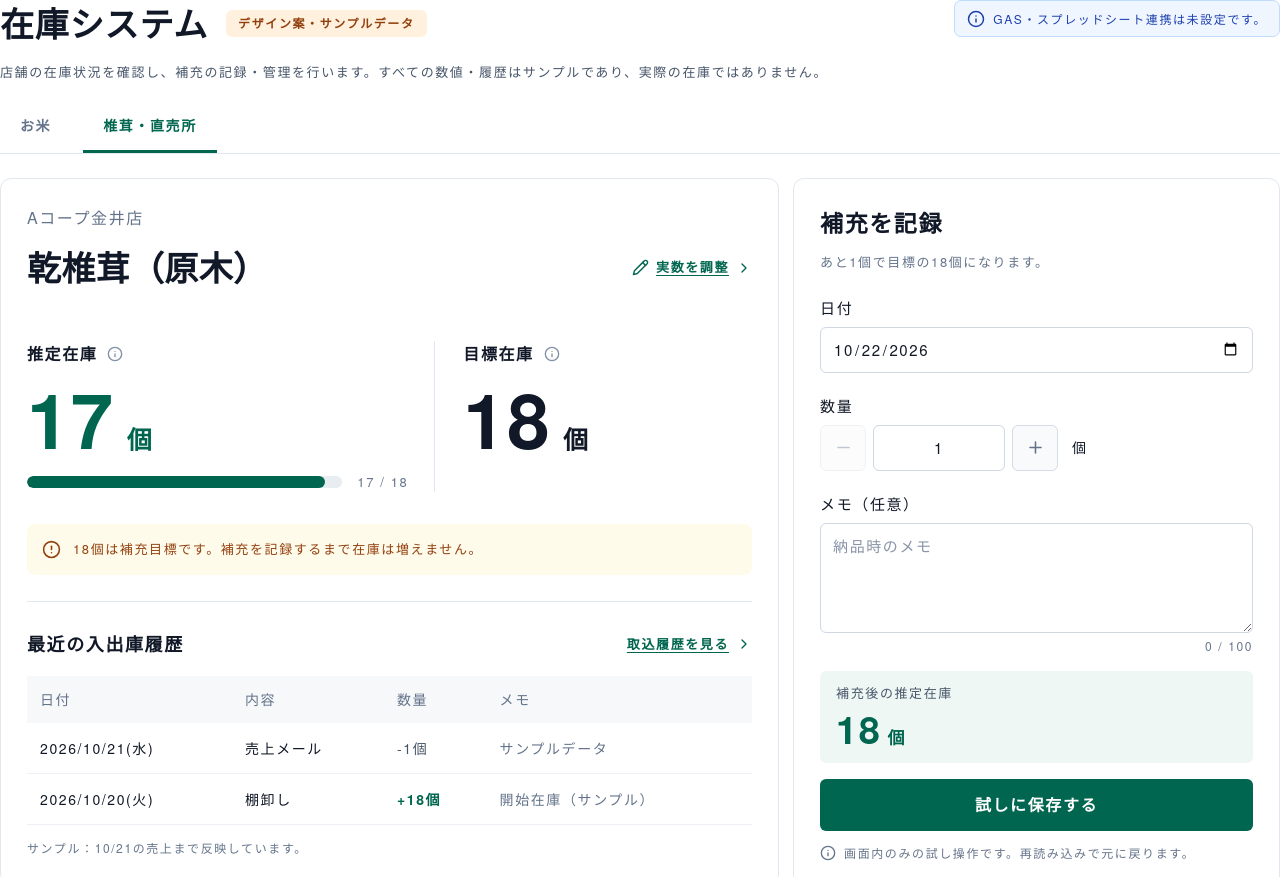
Test case: requires a reason for a count correction, including zero stock
The image size is (1280, 877).
Click the button "実数を調整" at x=692, y=268, box [632,248,752,288]
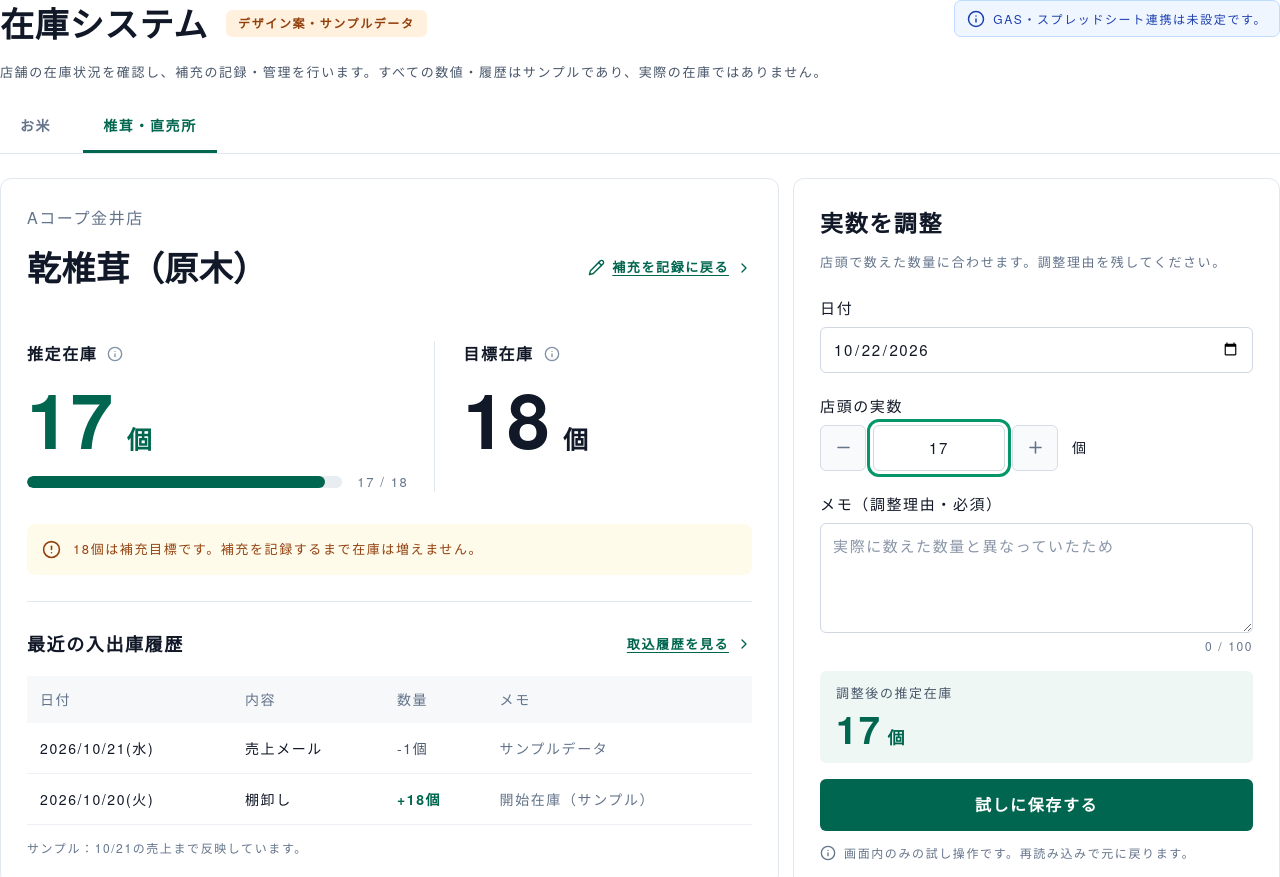
Replace the text in the number field labelled "店頭の実数" with "0" at x=939, y=448, box [873,425,1005,471]
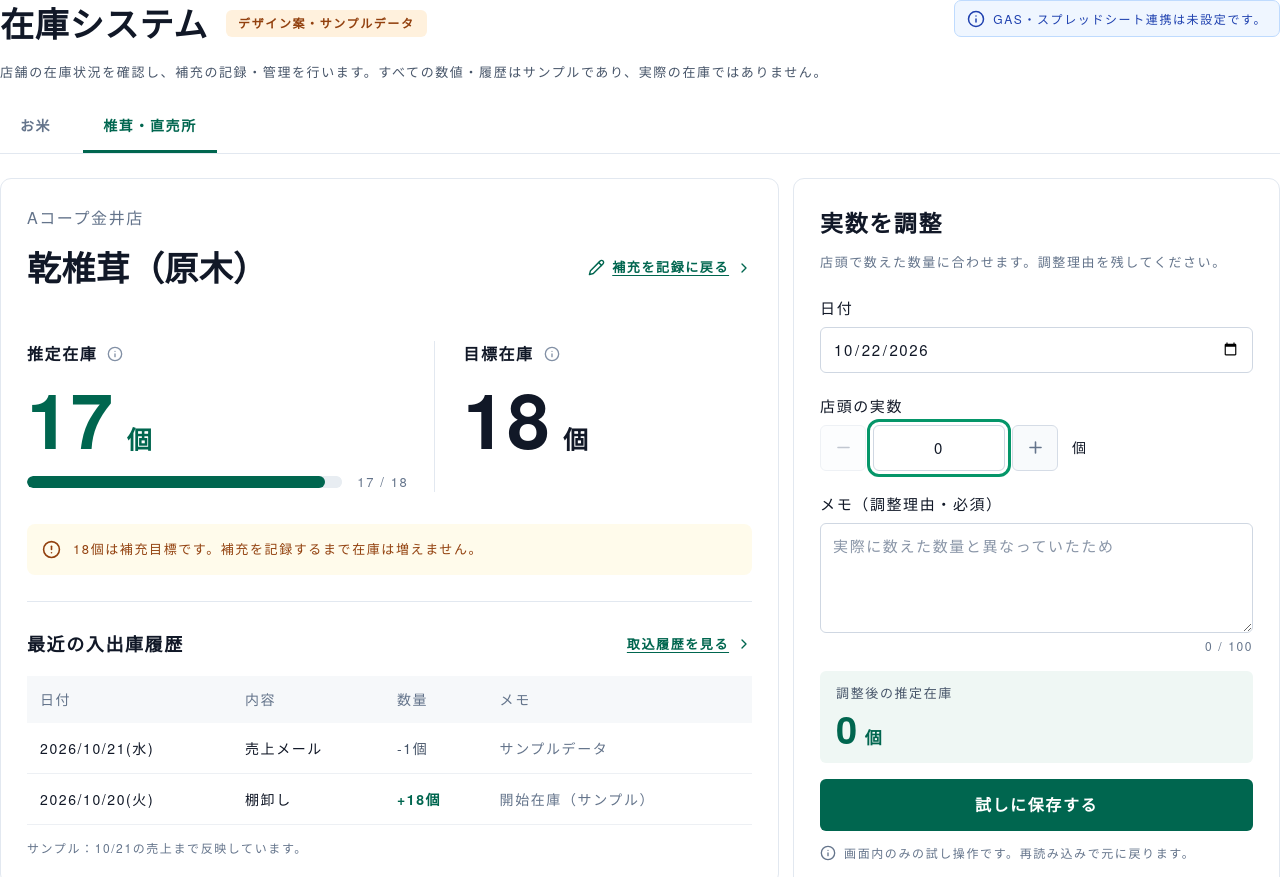
Click the button "試しに保存する" at x=1037, y=805, box [820,779,1253,831]
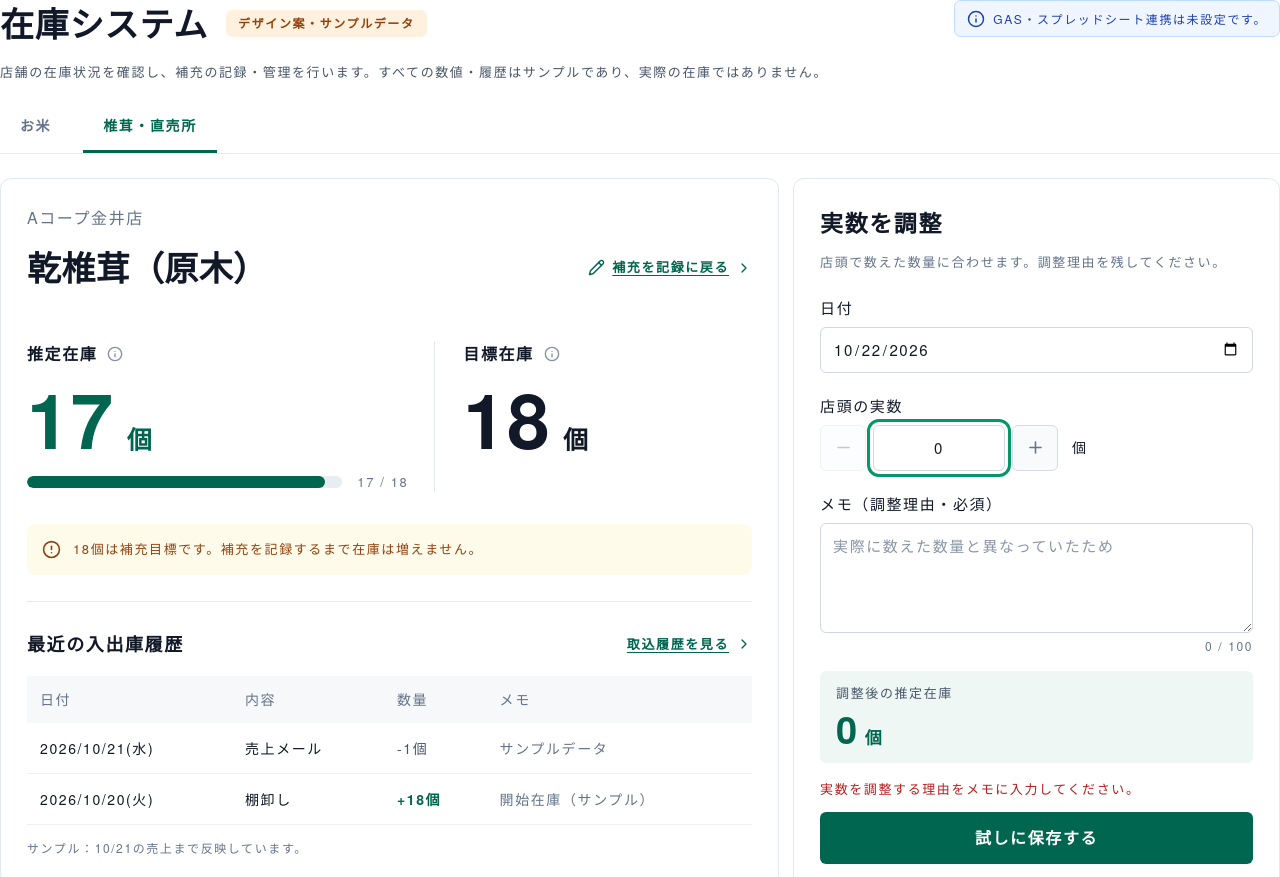
Now the message shows "調整する理由", box [820,779,1140,798]
Type "全量回収" into the text box labelled "メモ（調整理由・必須）" at x=1037, y=578, box [820,523,1253,633]
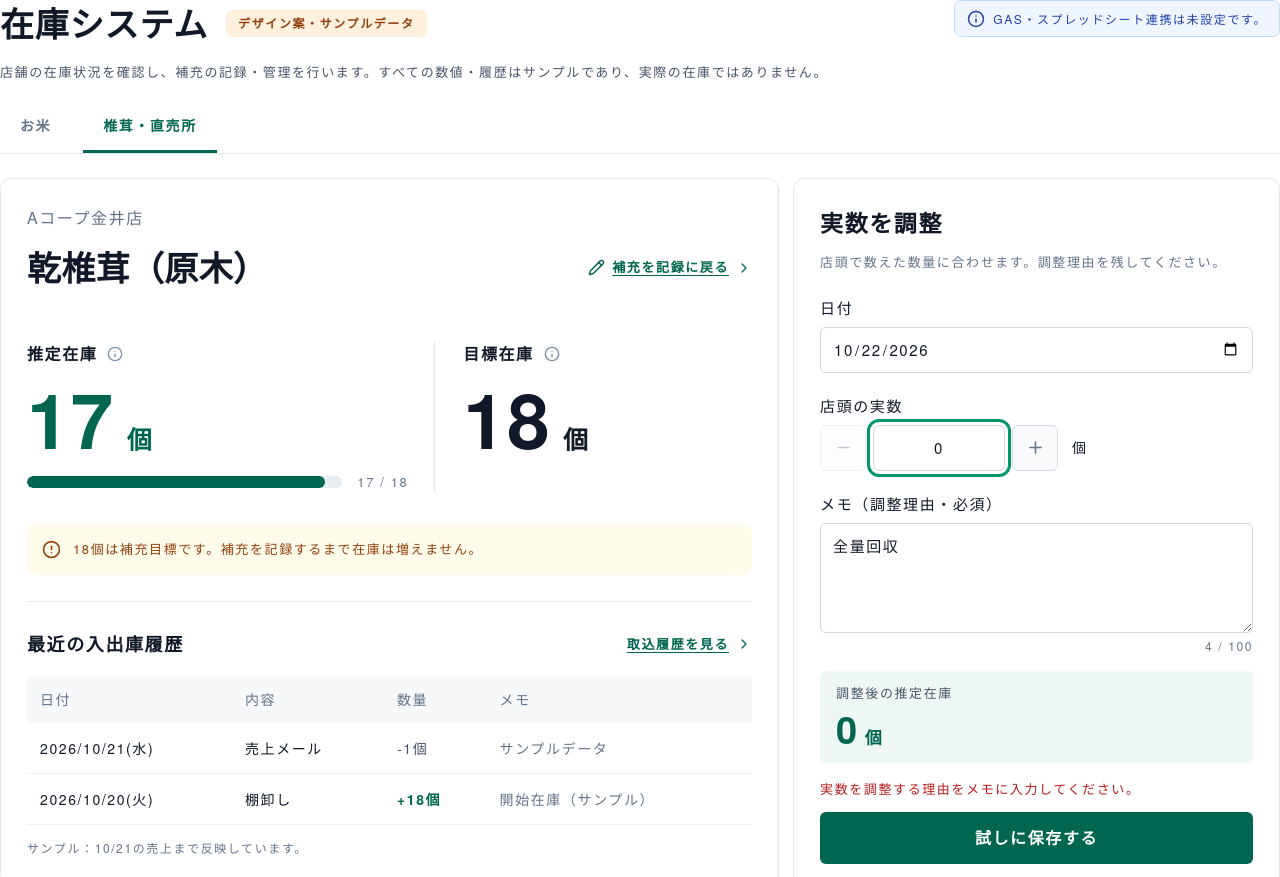
Click the button "試しに保存する" at x=1037, y=838, box [820,812,1253,864]
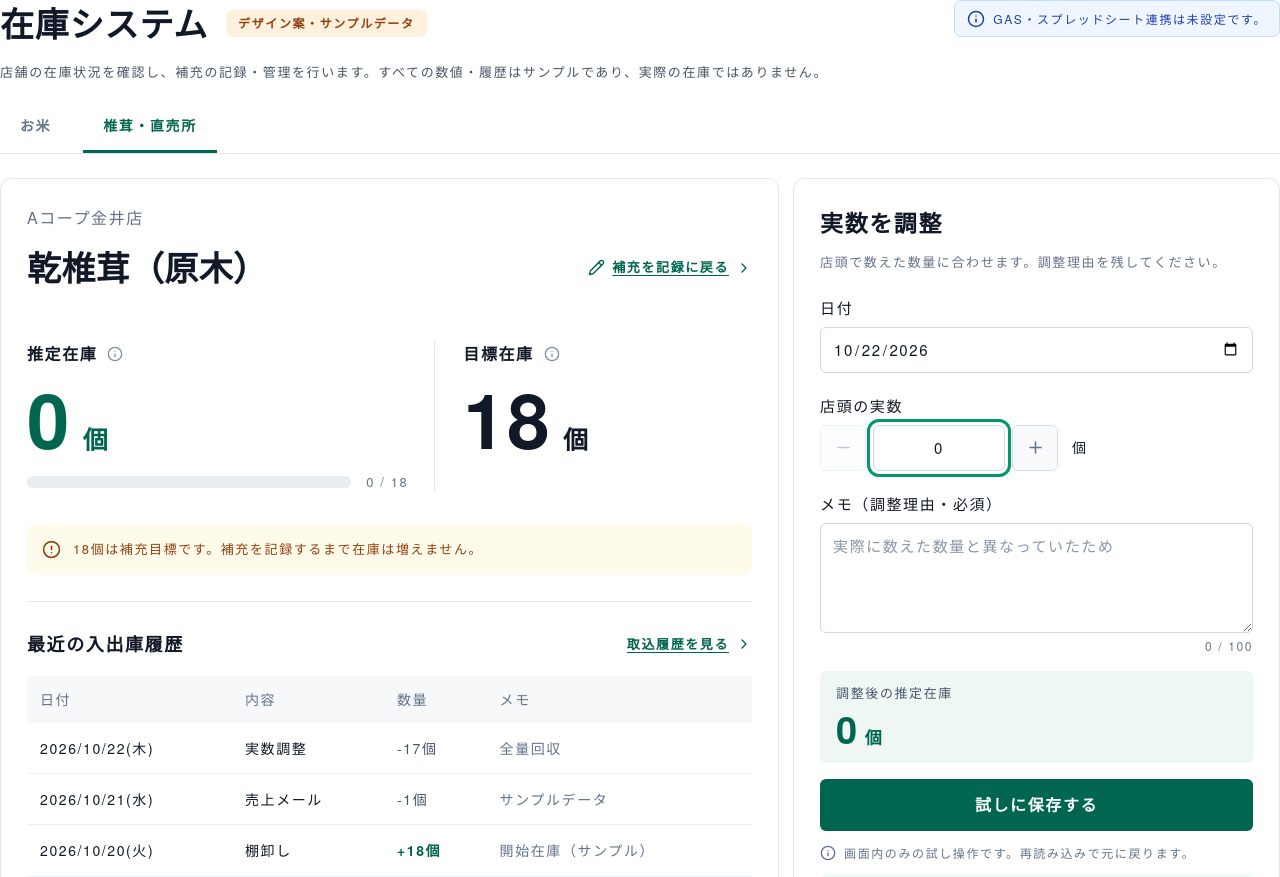
Now the text "-17個" is shown, box [384,722,487,773]
